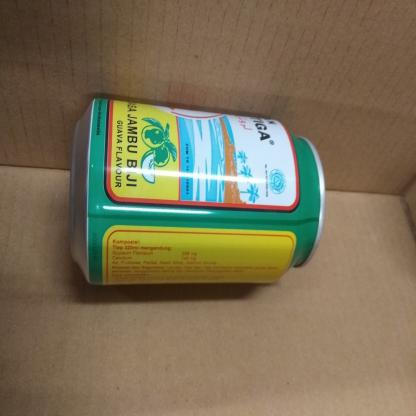can: (59, 85, 328, 296)
